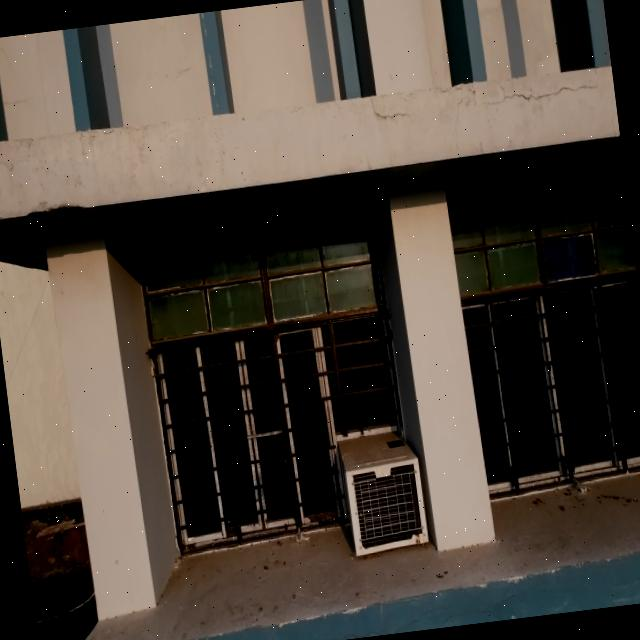Crack: (373, 68, 605, 133)
